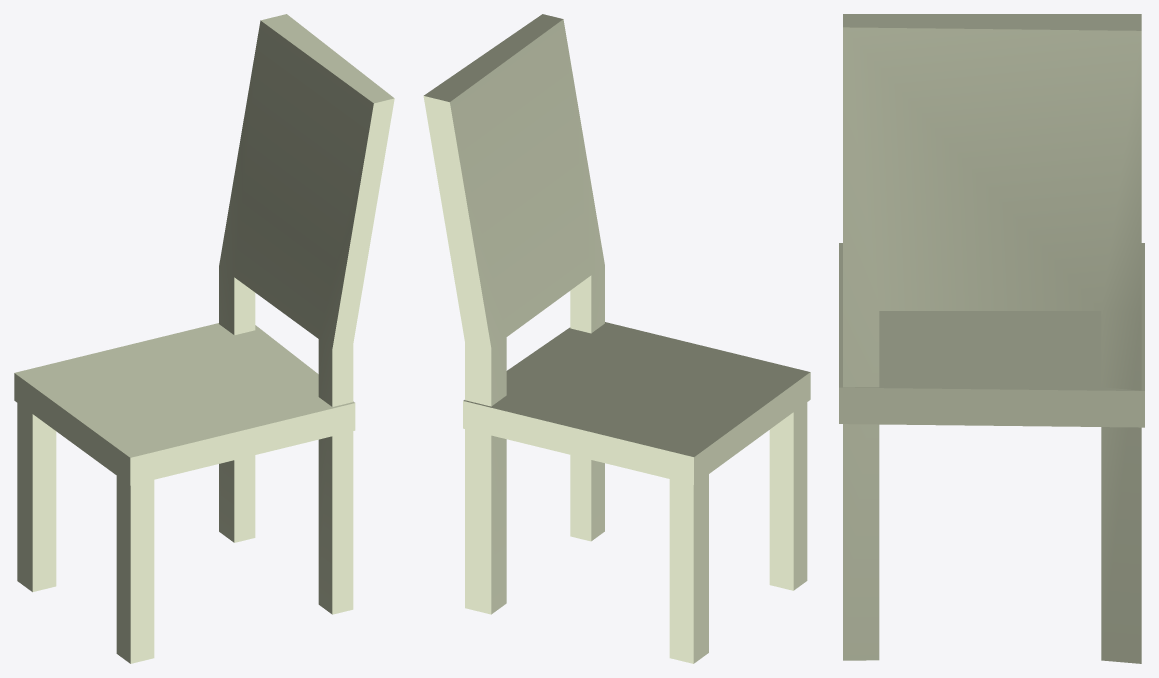
File: cotl_chair.FBX
3 views of the same model, side by side, from view 1: azimuth 30°, elevation 25°; view 2: azimuth 150°, elevation 25°; view 3: azimuth 270°, elevation 25° (orthographic). The views are drawn at different scales.
Visible parts, largest first — view 1: chair; view 2: chair; view 3: chair.
Boxes of the visible parts, box(x1,y1,x2,y2) form: chair: box(14, 14, 394, 663); chair: box(423, 14, 810, 663); chair: box(839, 14, 1144, 663).
Size of the model in its own units: 0.8376 by 1.48 by 0.621.
